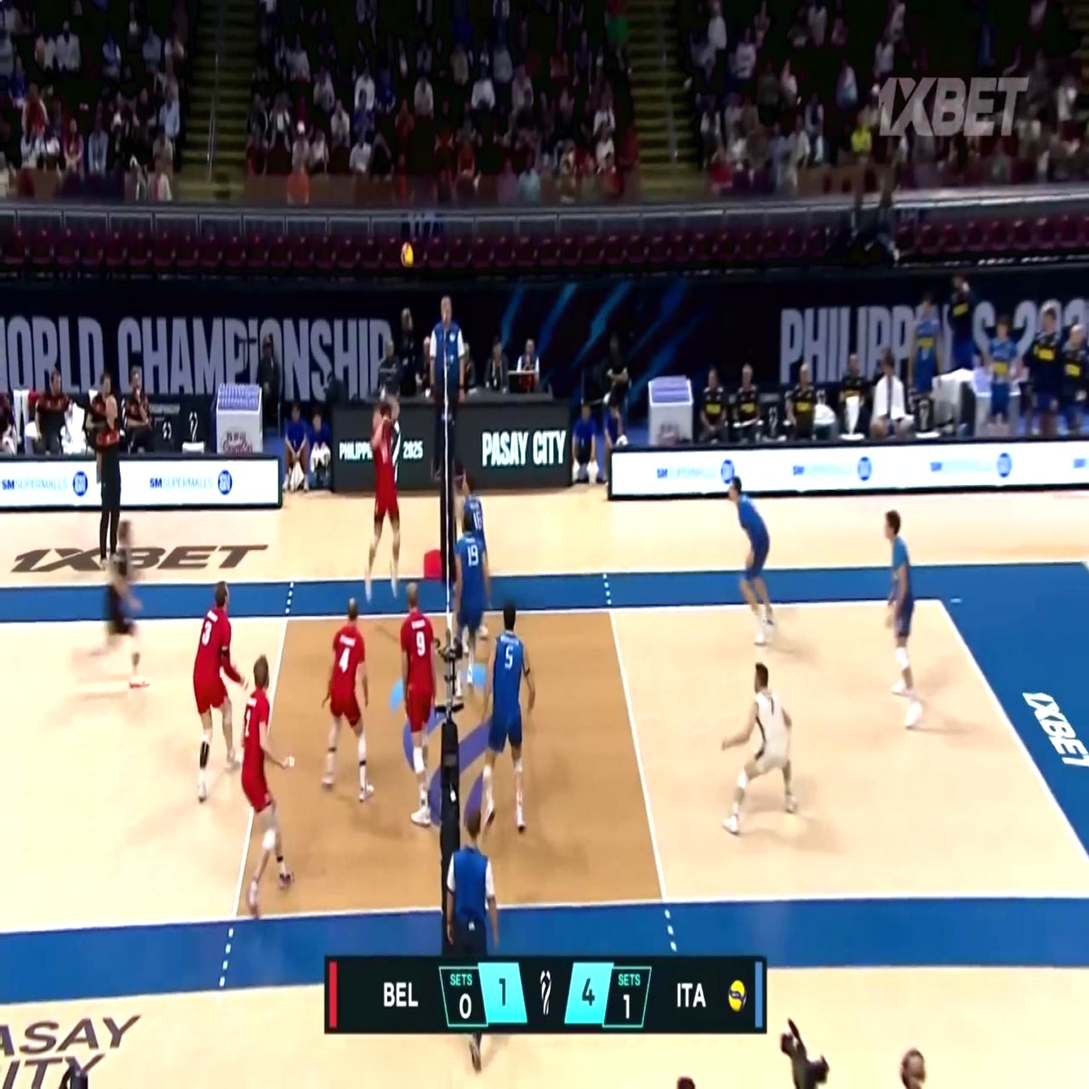ball: (400, 243, 413, 267)
